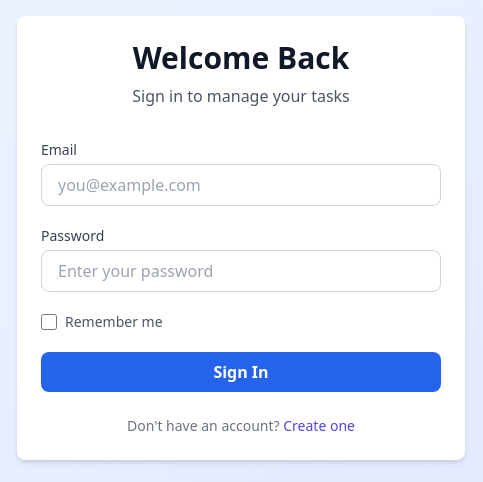
Test case: LoginView › should show loading state during login
Type "test@example.com" into the field with id "email" at (241, 185), box [41,164,441,206]
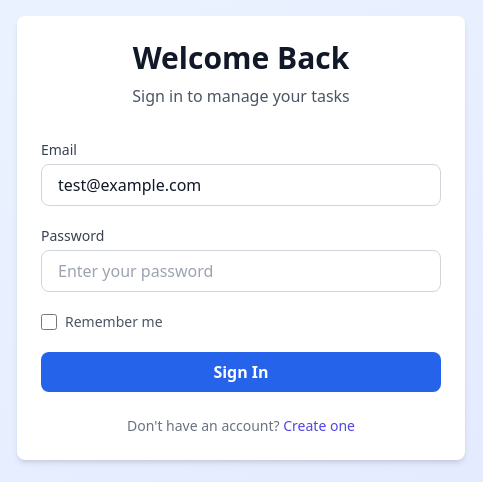
Type "Password123!" into the password field labelled "Password" at (241, 271), box [41,250,441,292]
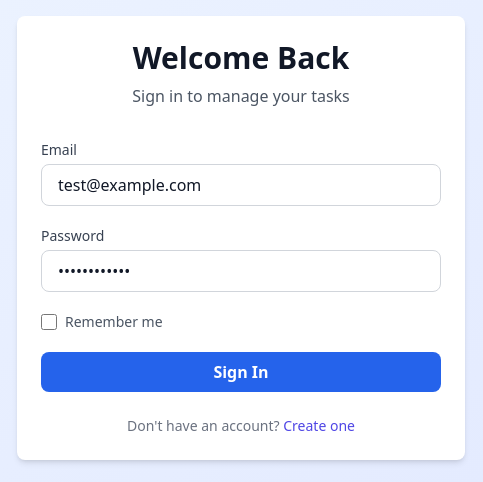
Submit the form, box [41,140,441,392]
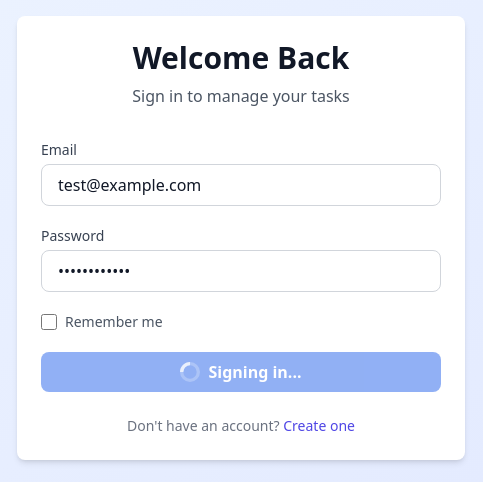
Result: the submit button is disabled at [41,352,441,392]
Result: the submit button reads "Signing in..." at [41,352,441,392]
